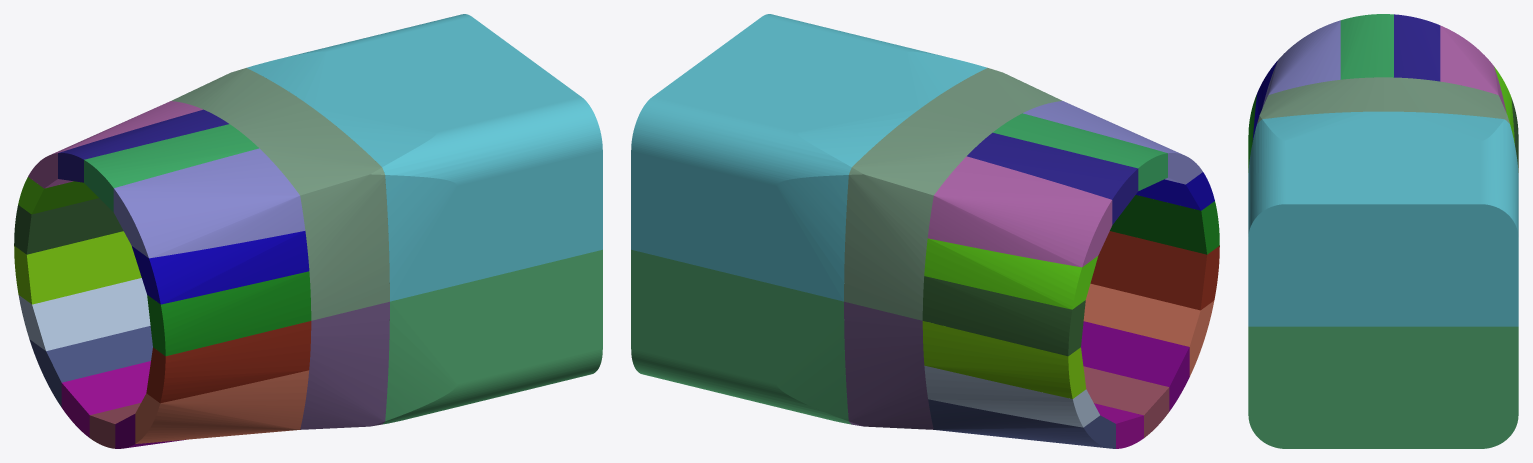
The model's file is 6_canonical.obj.
The picture shows the model from 3 angles, left to right: view 1: azimuth 30°, elevation 25°; view 2: azimuth 150°, elevation 25°; view 3: azimuth 270°, elevation 25°; orthographic projection. The views are drawn at different scales.
Visible parts, largest first — view 1: geometry_2, geometry_3, geometry_0, geometry_12, geometry_1, geometry_8, geometry_9, geometry_15, geometry_5, geometry_6, geometry_4, geometry_10 (+8 smaller); view 2: geometry_2, geometry_3, geometry_0, geometry_7, geometry_1, geometry_19, geometry_4, geometry_17, geometry_15, geometry_18, geometry_6, geometry_9 (+8 smaller); view 3: geometry_2, geometry_3, geometry_0, geometry_10, geometry_12, geometry_18, geometry_7, geometry_5, geometry_17, geometry_8.
Boxes of the visible parts, x1,y1,x2,y2 form: geometry_2: (246,14,602,301); geometry_3: (382,249,602,424); geometry_0: (171,68,389,320); geometry_12: (113,148,305,258); geometry_1: (300,301,389,429); geometry_8: (147,271,311,356); geometry_9: (135,370,308,443); geometry_15: (146,321,311,403); geometry_5: (132,231,309,304); geometry_6: (18,278,150,350); geometry_4: (14,231,141,304); geometry_10: (84,124,258,211); geometry_2: (631,14,987,301); geometry_3: (631,249,851,424); geometry_0: (844,68,1062,320); geometry_7: (927,156,1112,267); geometry_1: (844,301,933,429); geometry_19: (922,276,1085,356); geometry_4: (922,321,1086,398); geometry_17: (924,238,1097,309); geometry_15: (1090,231,1219,310); geometry_18: (967,132,1138,224); geometry_6: (924,365,1099,427); geometry_9: (1083,283,1214,376); geometry_2: (1248,111,1518,326); geometry_3: (1248,326,1518,448); geometry_0: (1257,77,1509,123); geometry_10: (1340,14,1393,79); geometry_12: (1262,20,1340,108); geometry_18: (1394,14,1440,81); geometry_7: (1440,25,1506,112); geometry_5: (1252,60,1277,141); geometry_17: (1494,66,1514,144); geometry_8: (1248,94,1256,172).
Bounding box in the file's own units: 0.03 × 0.018 × 0.018.
